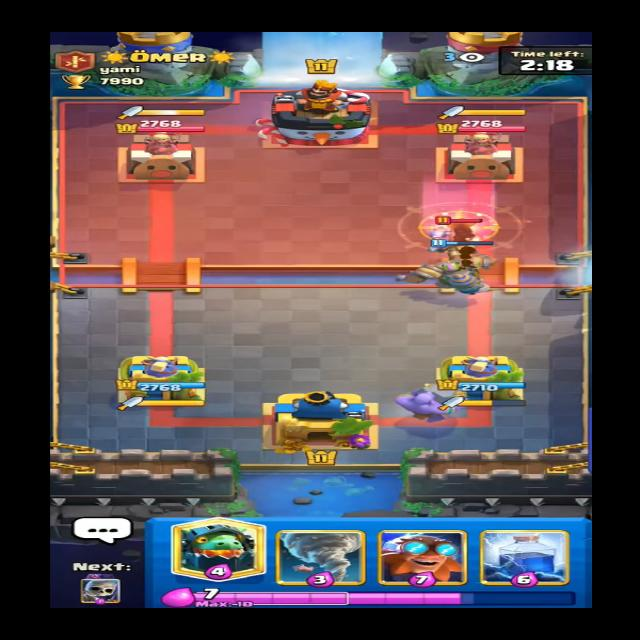Prince: (428, 209, 488, 266)
